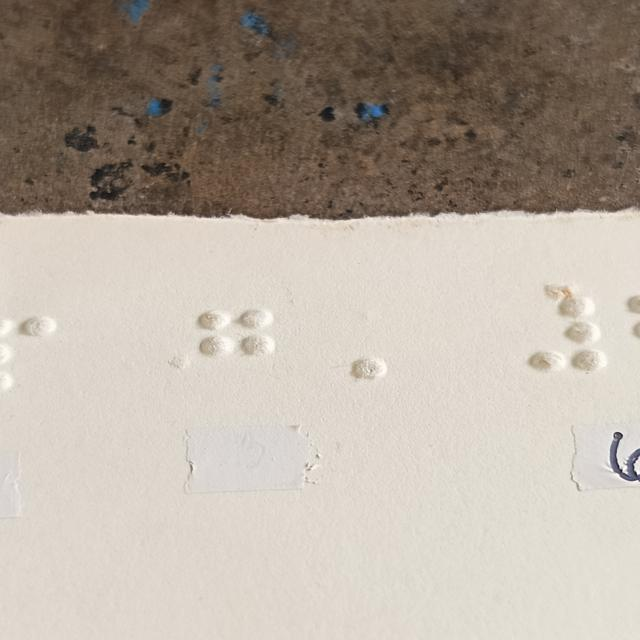letter_g: (200, 309, 272, 390)
